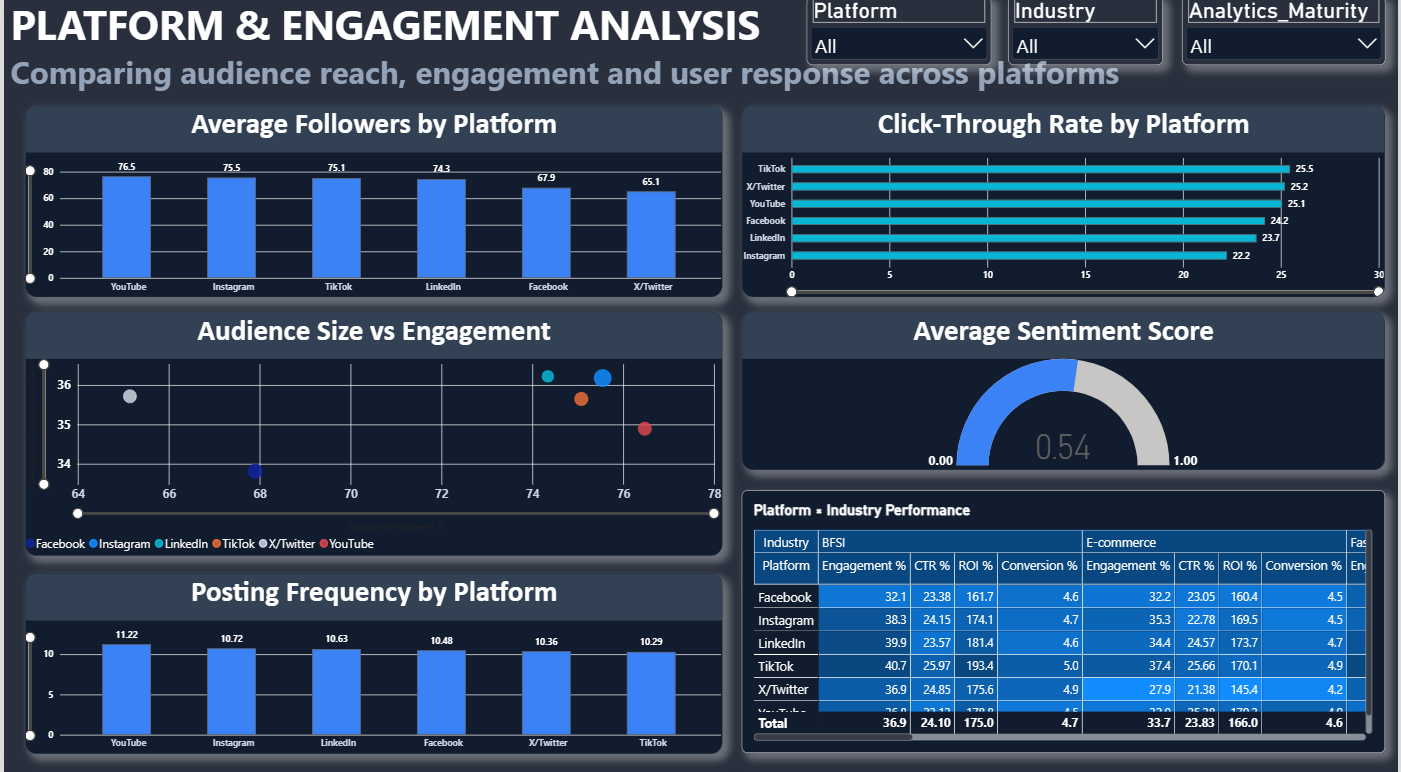

The dashboard page shown, as its layout file describes it:
{"tool":"powerbi","page":{"name":"Platform Analysis","canvas":[1920,1080],"ordinal":1},"visuals":[{"type":"textbox","box":[9.5,4.7,1910.5,148.9],"z":0},{"type":"slicer","fields":{"Values":["Social-Media-Analytics-Dataset.Platform"]},"box":[1106.8,5.1,254.2,95],"z":1000},{"type":"slicer","fields":{"Values":["Social-Media-Analytics-Dataset.Industry"]},"box":[1384.1,5.1,213.1,95],"z":2000},{"type":"slicer","fields":{"Values":["Social-Media-Analytics-Dataset.Analytics_Maturity"]},"box":[1622.9,5.1,279.9,95],"z":3000},{"type":"clusteredColumnChart","title":"Average Followers by Platform","fields":{"Category":["Social-Media-Analytics-Dataset.Platform"],"Y":["Avg(Social-Media-Analytics-Dataset.Followers_K)"]},"box":[28.2,154.1,960.4,264.5],"z":4000},{"type":"scatterChart","title":"Audience Size vs Engagement","fields":{"Series":["Social-Media-Analytics-Dataset.Platform"],"Size":["CountNonNull(Social-Media-Analytics-Dataset.Campaign_ID)"],"X":["Avg(Social-Media-Analytics-Dataset.Followers_K)"],"Y":["Avg(Social-Media-Analytics-Dataset.Engagement_Rate)"]},"box":[28.2,439.1,960.4,336.4],"z":5000},{"type":"clusteredBarChart","title":"Click-Through Rate by Platform","fields":{"Category":["Social-Media-Analytics-Dataset.Platform"],"Y":["Avg(Social-Media-Analytics-Dataset.Click_Through_Rate)"]},"box":[1016.9,154.1,885.9,264.5],"z":6000},{"type":"gauge","title":"Average Sentiment Score","fields":{"Y":["Avg(Social-Media-Analytics-Dataset.Sentiment_Score)"]},"box":[1016.9,439.1,885.9,218.3],"z":7000},{"type":"clusteredColumnChart","title":"Posting Frequency by Platform","fields":{"Category":["Social-Media-Analytics-Dataset.Platform"],"Y":["Avg(Social-Media-Analytics-Dataset.Posting_Frequency_per_Week)"]},"box":[28.2,798.6,960.4,249.1],"z":8000},{"type":"pivotTable","title":"Platform × Industry Performance","fields":{"Columns":["Social-Media-Analytics-Dataset.Industry"],"Rows":["Social-Media-Analytics-Dataset.Platform"],"Values":["Avg(Social-Media-Analytics-Dataset.Engagement_Rate)","Avg(Social-Media-Analytics-Dataset.Click_Through_Rate)","Avg(Social-Media-Analytics-Dataset.ROI_Percent)","Avg(Social-Media-Analytics-Dataset.Conversion_Rate)"]},"box":[1016.9,685.6,885.9,362.1],"z":9000}]}

Visuals, with their boxes in screenshot pixels (x1, y1, x2, y2), scaled from the page's 1920x1080 canvas onto the 1401x772 screenshot:
textbox: [7,3,1400,110]
slicer - Social-Media-Analytics-Dataset.Platform: [808,4,993,72]
slicer - Social-Media-Analytics-Dataset.Industry: [1010,4,1165,72]
slicer - Social-Media-Analytics-Dataset.Analytics_Maturity: [1184,4,1388,72]
"Average Followers by Platform" clusteredColumnChart: [21,110,721,299]
"Audience Size vs Engagement" scatterChart: [21,314,721,554]
"Click-Through Rate by Platform" clusteredBarChart: [742,110,1388,299]
"Average Sentiment Score" gauge: [742,314,1388,470]
"Posting Frequency by Platform" clusteredColumnChart: [21,571,721,749]
"Platform × Industry Performance" pivotTable: [742,490,1388,749]
